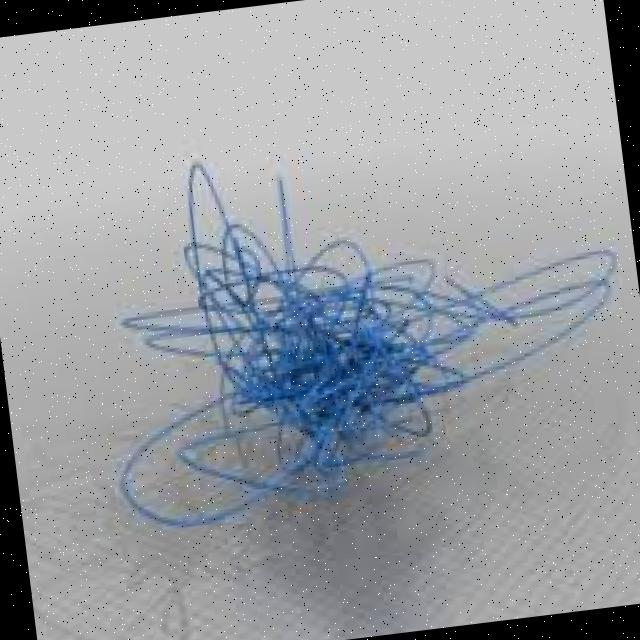spaghetti: (75, 127, 570, 588)
